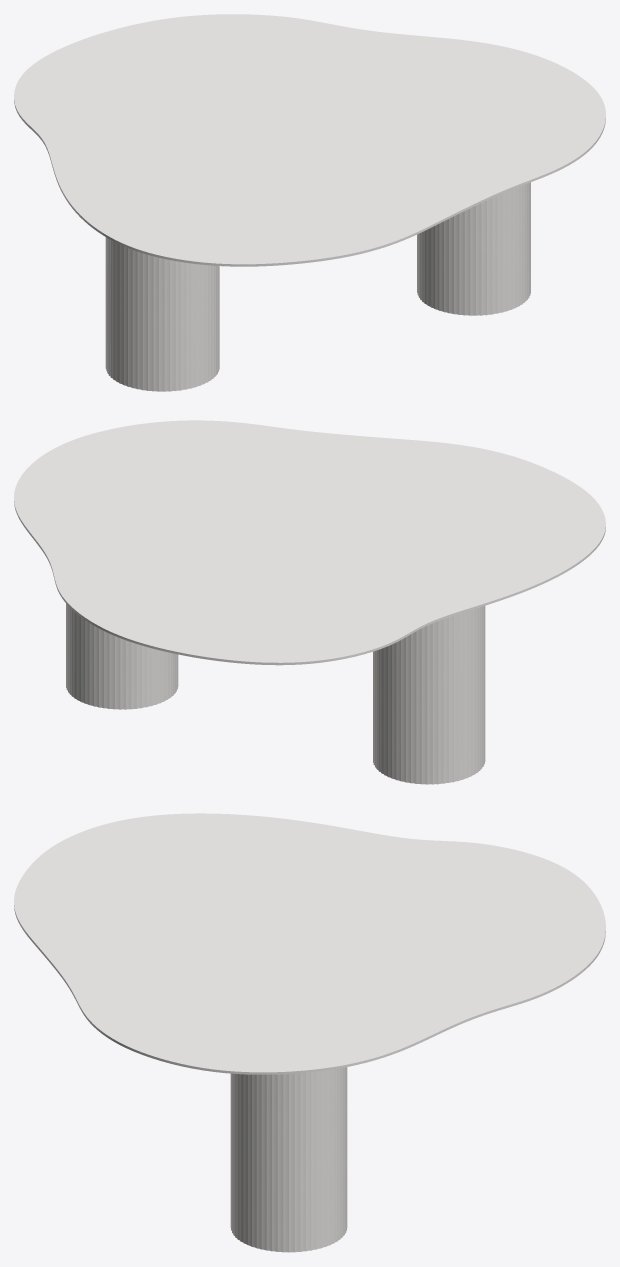
File: purewhite_topone_facet_ripplesecond.glb
3 views of the same model, one above another, from view 1: azimuth 30°, elevation 25°; view 2: azimuth 150°, elevation 25°; view 3: azimuth 270°, elevation 25° (orthographic). The views are drawn at different scales.
Visible parts, largest first — view 1: facet_topone, ripplesecond; view 2: facet_topone, ripplesecond; view 3: facet_topone, ripplesecond.
Boxes of the visible parts, x1,y1,x2,y2 form: facet_topone: (14,14,605,266); ripplesecond: (105,182,530,391); facet_topone: (14,420,605,665); ripplesecond: (66,603,485,784); facet_topone: (14,813,605,1074); ripplesecond: (230,1067,347,1252).
Bounding box in the file's own units: 6.83 × 2.5 × 6.6.
1 material, 1 textured.
